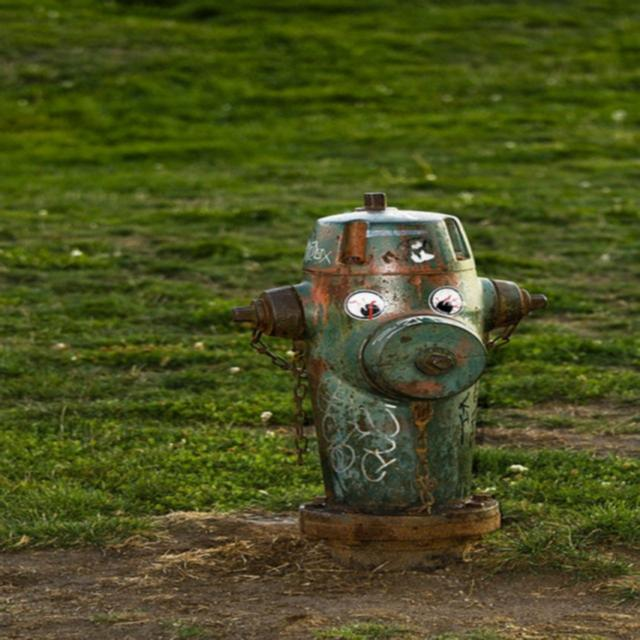fire_hydrant: (229, 189, 553, 574)
